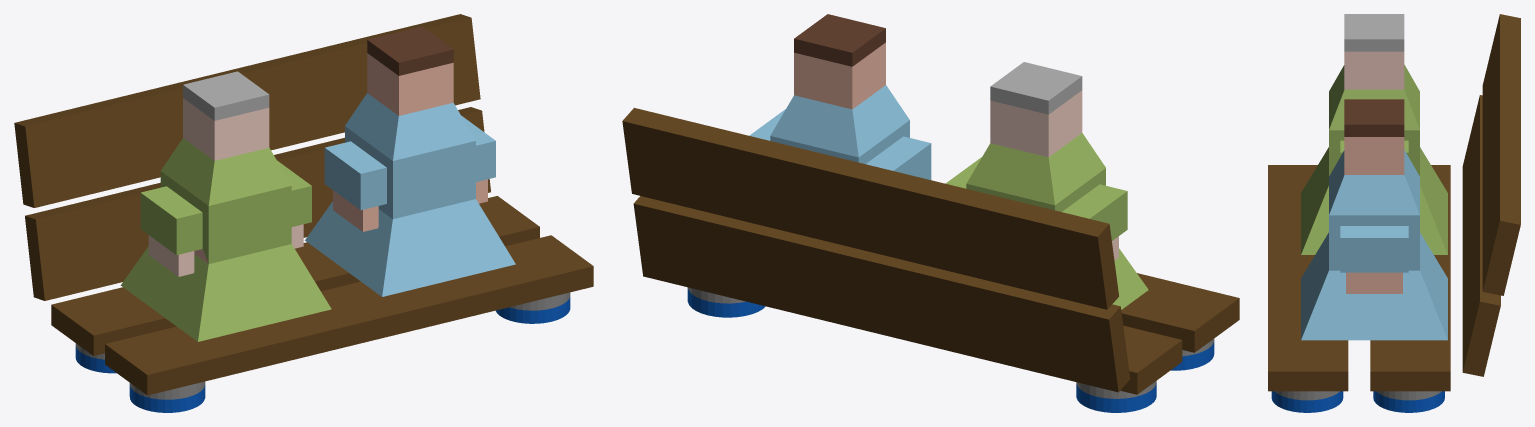
File: veci.glb
3 renders of one model, left to right at view 1: azimuth 30°, elevation 25°; view 2: azimuth 150°, elevation 25°; view 3: azimuth 270°, elevation 25°, orthographic. The views are drawn at different scales.
Parts seen in each view (by area): view 1: Cube; view 2: Cube; view 3: Cube.
Part boxes in pixels (x1,y1,x2,y2): Cube: (14,14,593,412); Cube: (622,14,1239,412); Cube: (1268,14,1520,412).
Bounding box in the file's own units: 7.33 × 4.06 × 3.79.
1 material, 1 textured.
